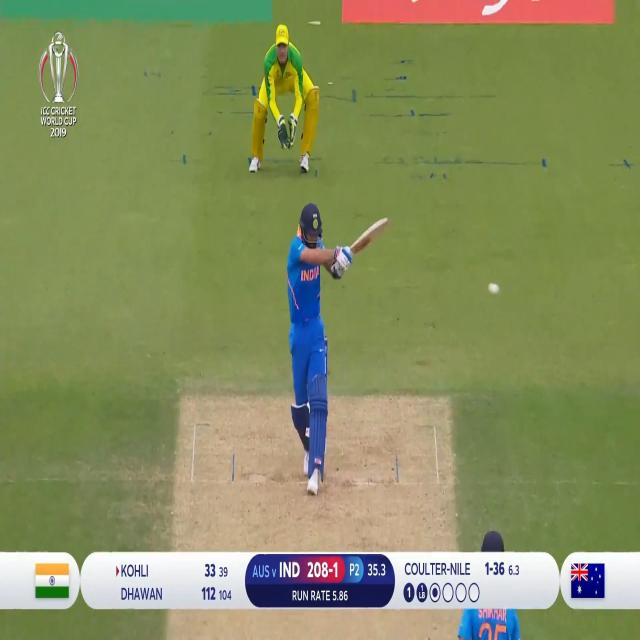ball: (486, 281, 505, 300)
